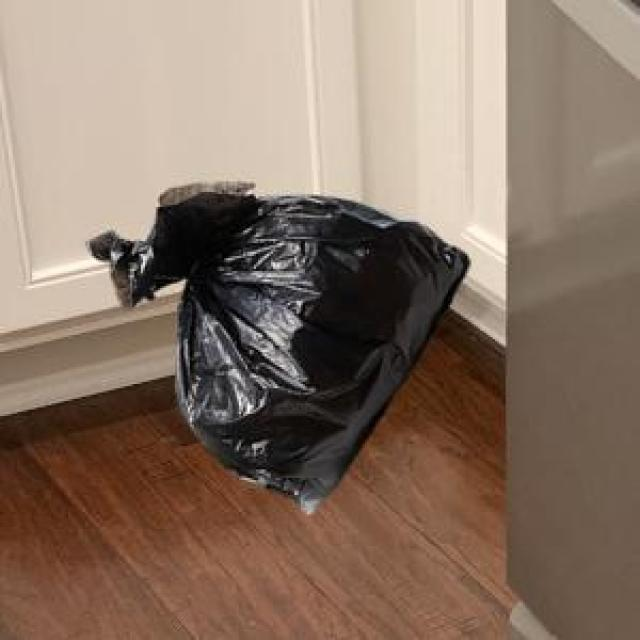Trashbag: (73, 172, 475, 520)
